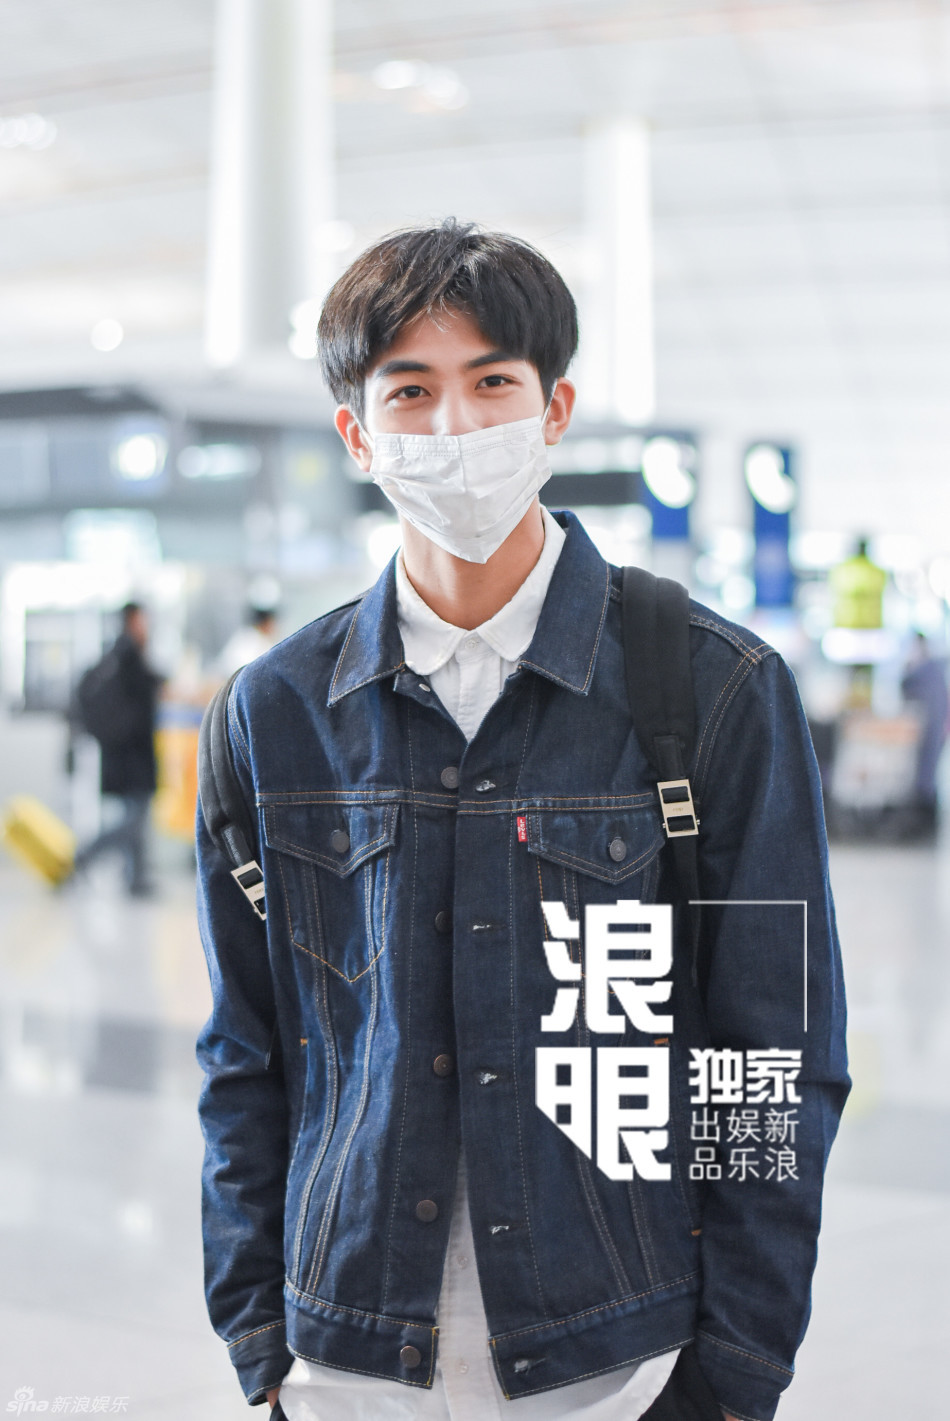face_mask: (360, 282, 542, 558)
